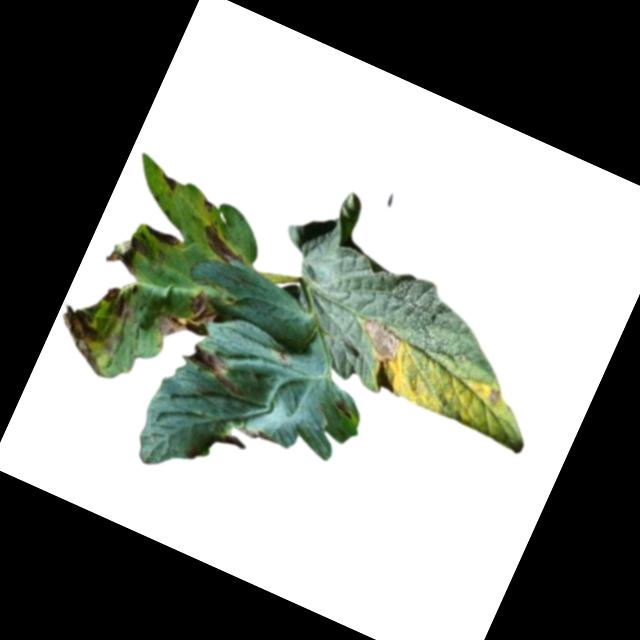Early_blight: (42, 294, 124, 378), (152, 277, 222, 352), (179, 341, 252, 398), (354, 313, 409, 365), (195, 220, 250, 266), (98, 279, 147, 326), (103, 226, 148, 274), (140, 219, 184, 250), (330, 395, 357, 420), (159, 169, 182, 193), (482, 384, 505, 407), (202, 197, 217, 212)
